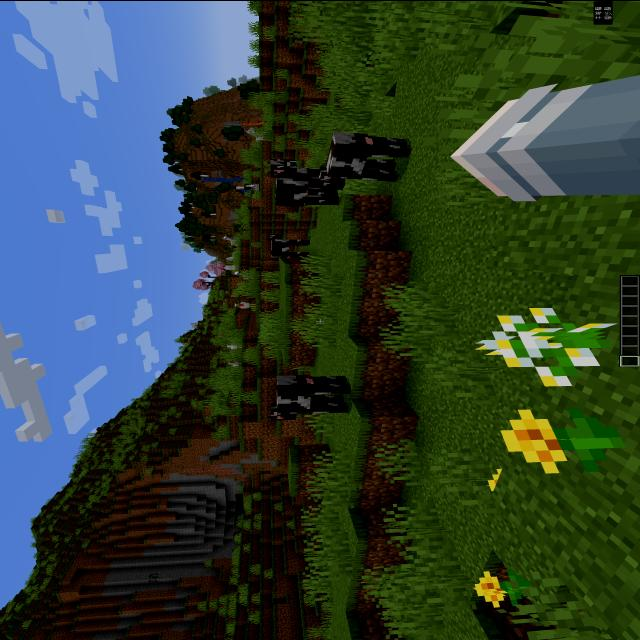chicken: (234, 300, 258, 308), (226, 358, 243, 368), (224, 342, 244, 350)
cow: (318, 130, 412, 180), (267, 372, 353, 422), (270, 156, 340, 204), (264, 230, 314, 260)
